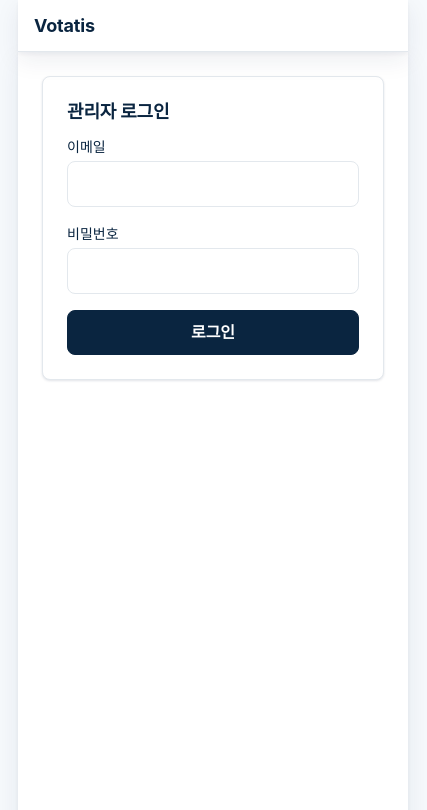
LoginPage › 성공 응답을 기다리는 동안 동일 메시지로 계정 존재를 누설하지 않는다
Type "nobody@b.com" into the field labelled "이메일". click: point(213, 184)
box: [67,160,359,206]
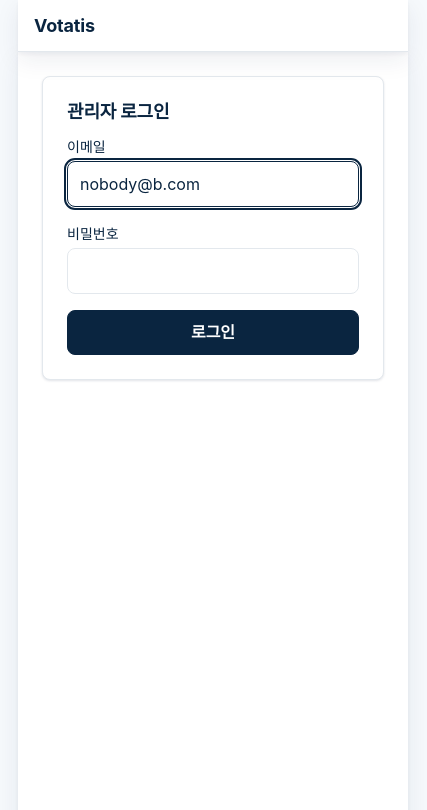
Type "x" into the password field labelled "비밀번호". click: point(213, 270)
box: [67,248,359,294]
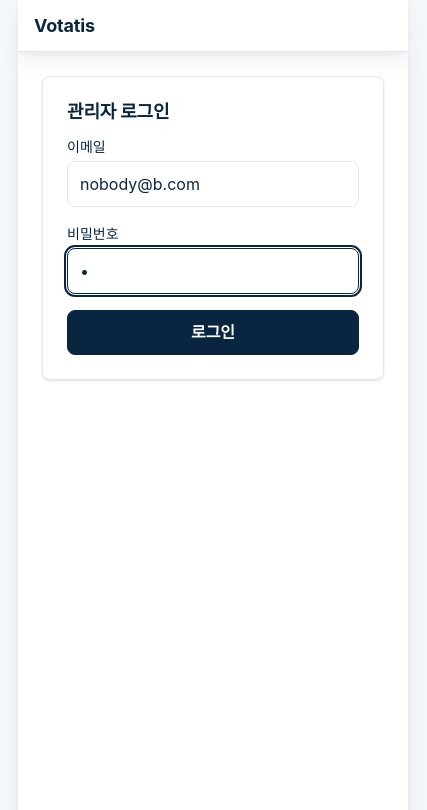
Click the button "로그인". click: point(213, 332)
box: [67,310,359,355]
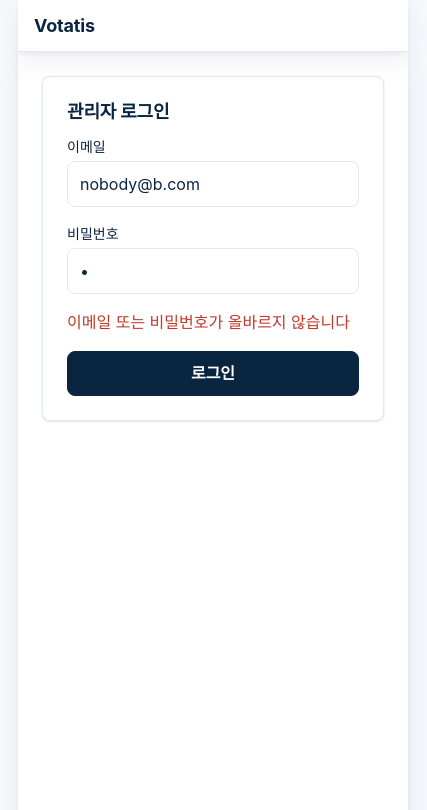
Now the text "이메일 또는 비밀번호가 올바르지 않습니다" is shown, box [67,310,359,335]
